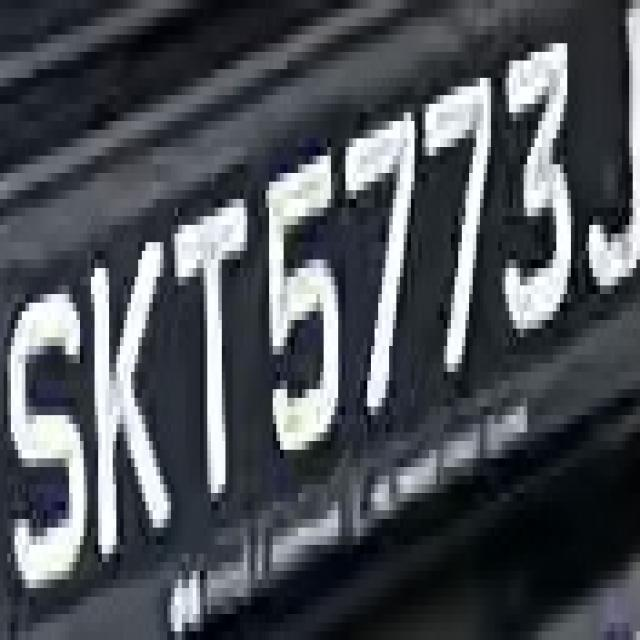3: (498, 18, 582, 338)
5: (258, 138, 346, 493)
7: (334, 104, 422, 441), (418, 52, 495, 424)
K: (76, 216, 175, 571)
S: (4, 268, 91, 640)
T: (164, 173, 258, 510)
